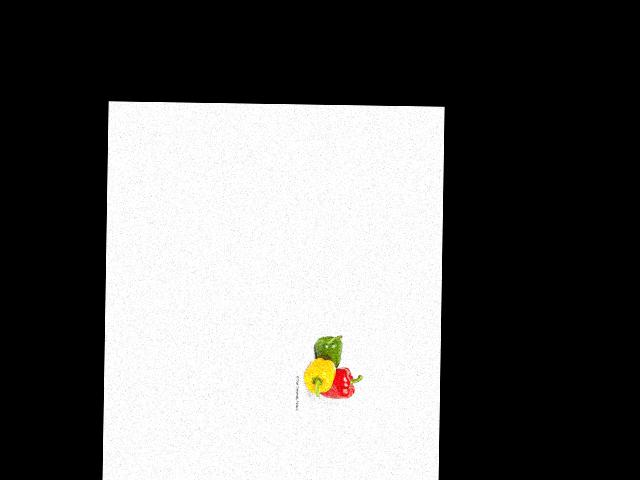bell_pepper: (322, 366, 362, 402)
